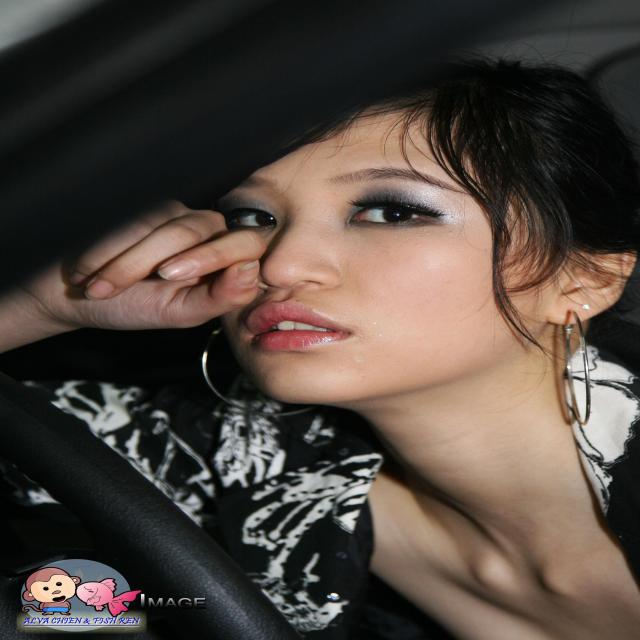no-glass: (222, 196, 448, 232)
